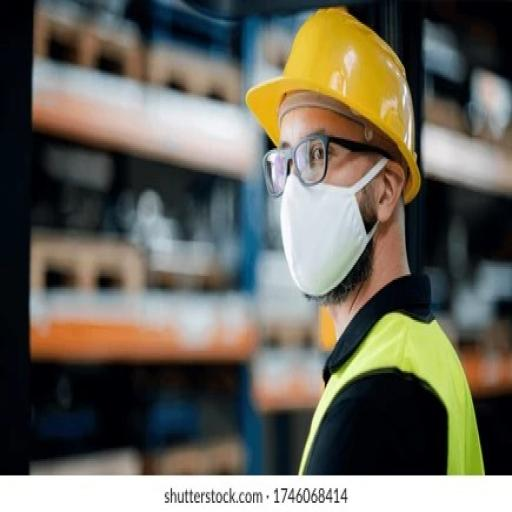mask: (268, 173, 374, 289)
